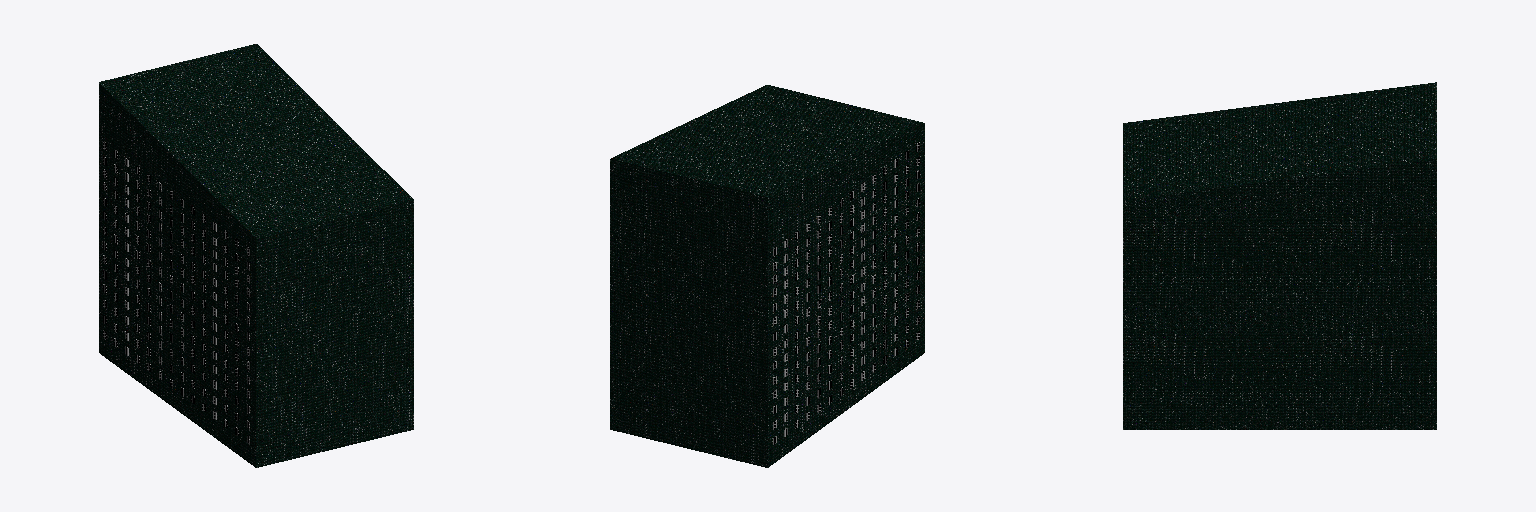
The picture shows the model from 3 angles: view 1: azimuth 30°, elevation 25°; view 2: azimuth 150°, elevation 25°; view 3: azimuth 270°, elevation 25°; orthographic projection.
Parts seen in each view (by area): view 1: largemetalbuilding; view 2: largemetalbuilding; view 3: largemetalbuilding.
Boxes of the visible parts, x1,y1,x2,y2 form: largemetalbuilding: [99, 44, 413, 467]; largemetalbuilding: [610, 85, 924, 467]; largemetalbuilding: [1123, 82, 1436, 429].
Bounding box in the file's own units: 54.83 × 89.53 × 94.23.
2 materials, 2 textured.